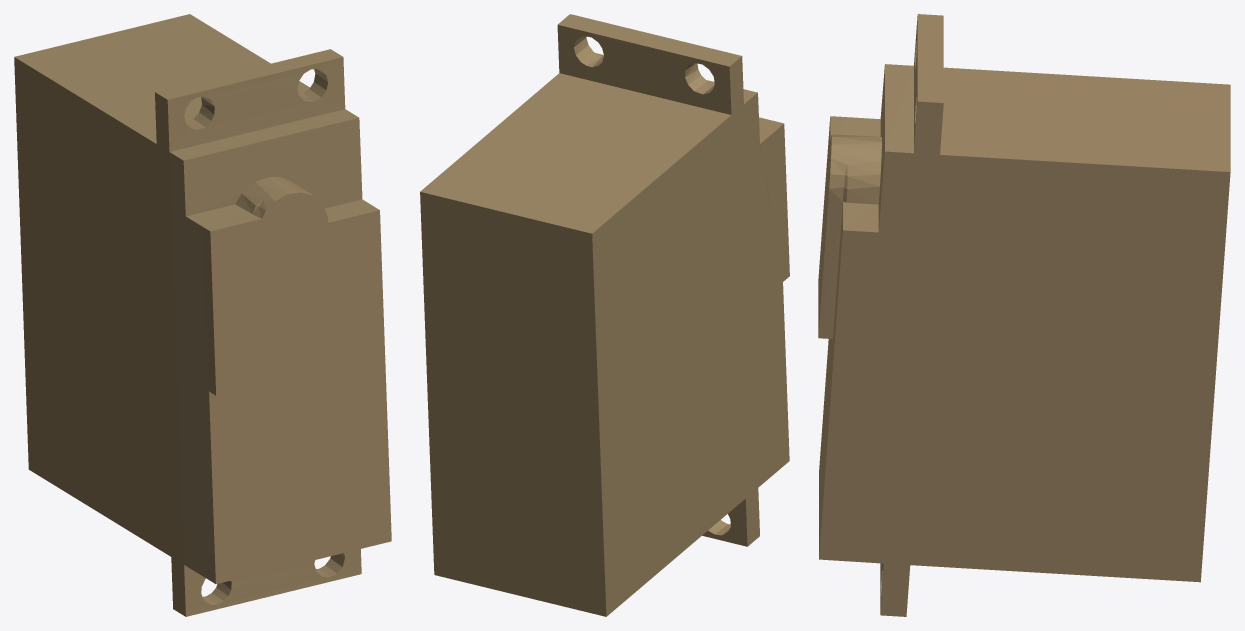
File: left_elbow_x_link_visual_9.obj.balanced.glb
The picture shows the model from 3 angles, left to right: view 1: azimuth 30°, elevation 25°; view 2: azimuth 150°, elevation 25°; view 3: azimuth 270°, elevation 25°; orthographic projection. The views are drawn at different scales.
Bounding box in the file's own units: 0.2828 × 0.7762 × 0.5625.
